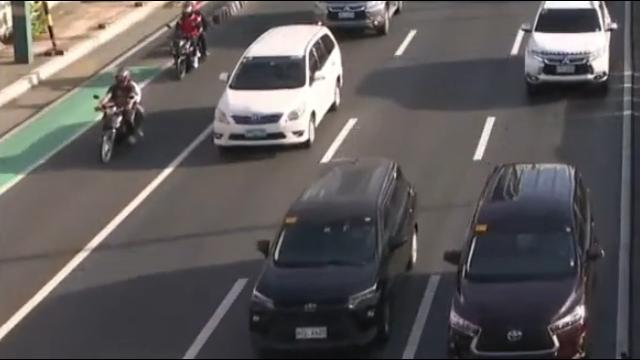car: (244, 156, 429, 360), (447, 160, 606, 360), (211, 24, 346, 153), (522, 0, 618, 91), (312, 2, 403, 37)
motorcycle: (94, 65, 147, 162), (173, 4, 210, 81)
